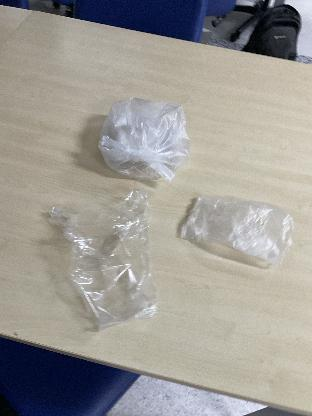Others: (48, 186, 156, 336), (96, 86, 198, 182), (175, 190, 301, 264)
